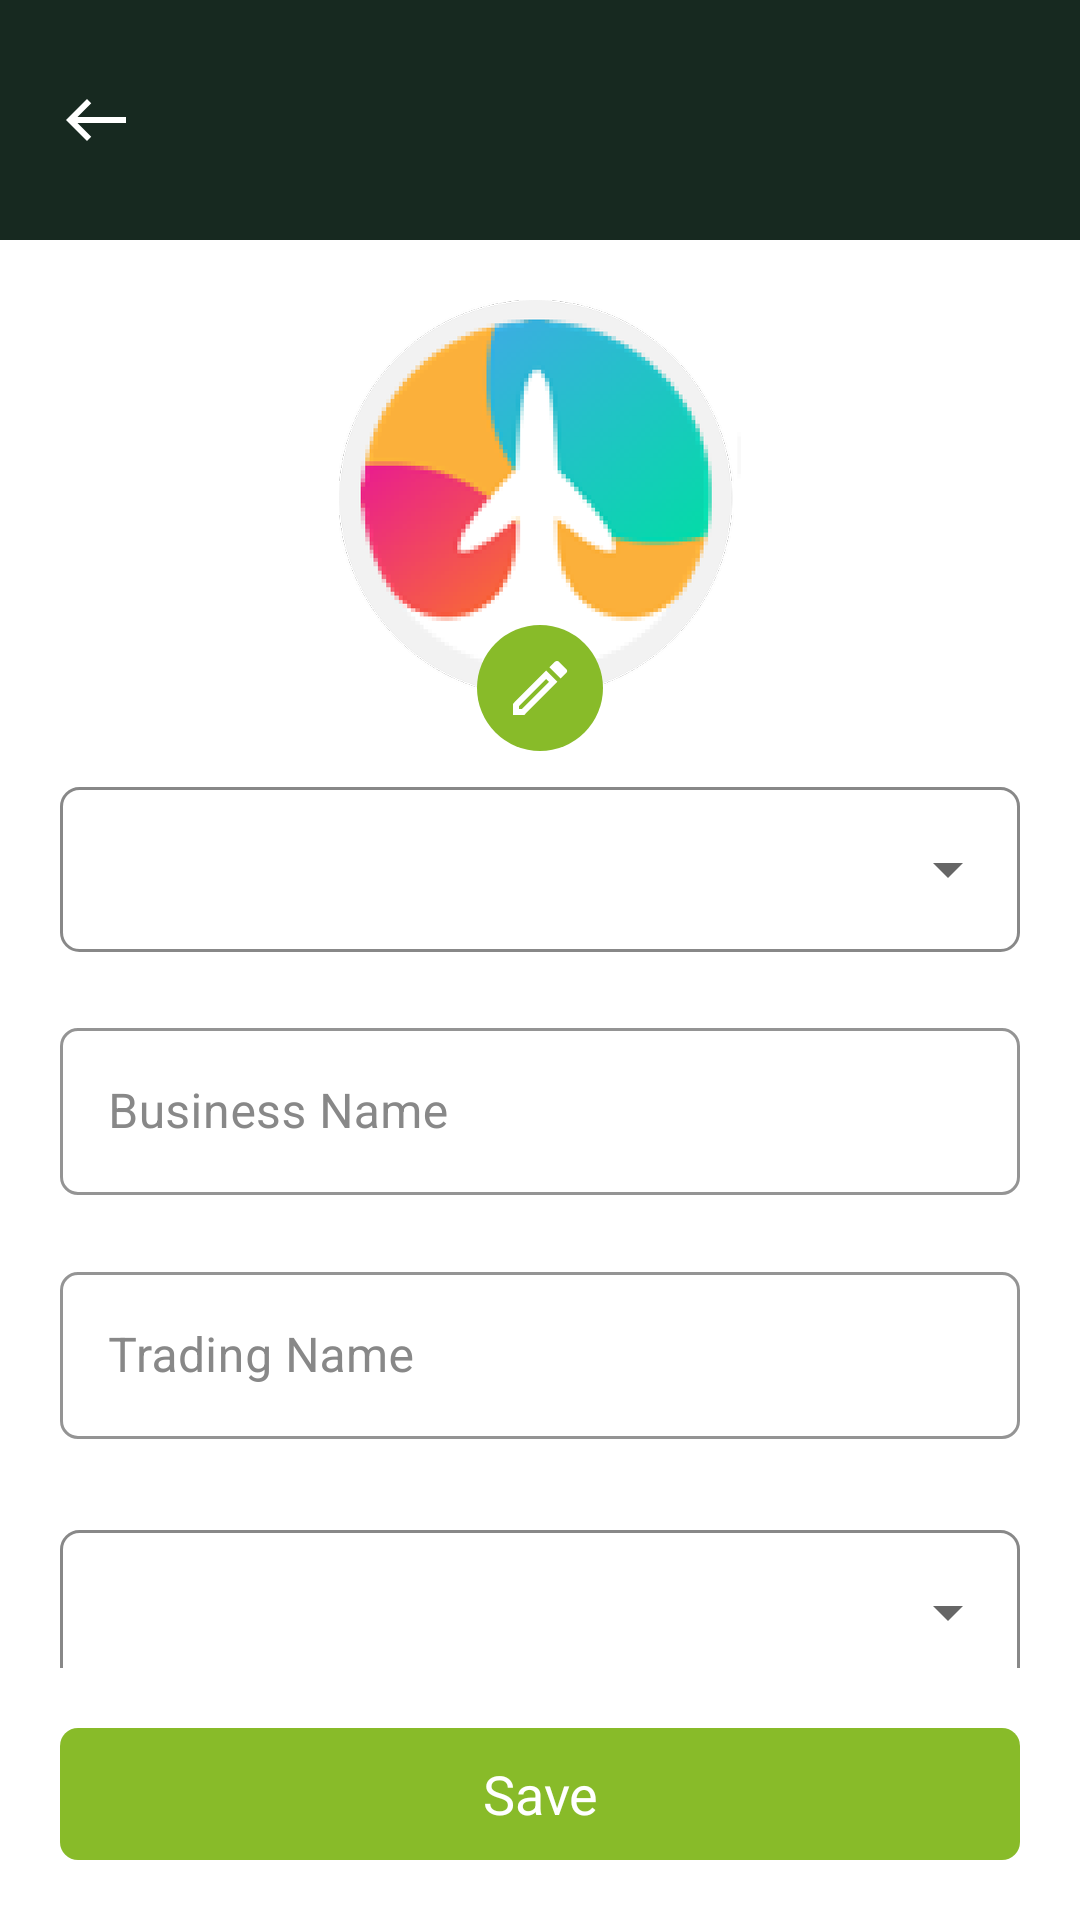

Named icons in this screenshot (1080 × 1920) and their centers, (x=x, y=y):
arrow back: (x=96, y=120)
edit: (x=539, y=688)
